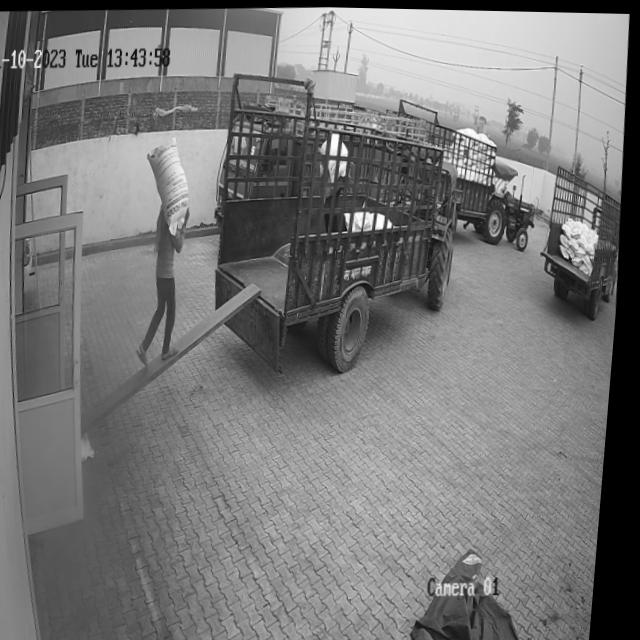sack: (143, 135, 196, 237)
